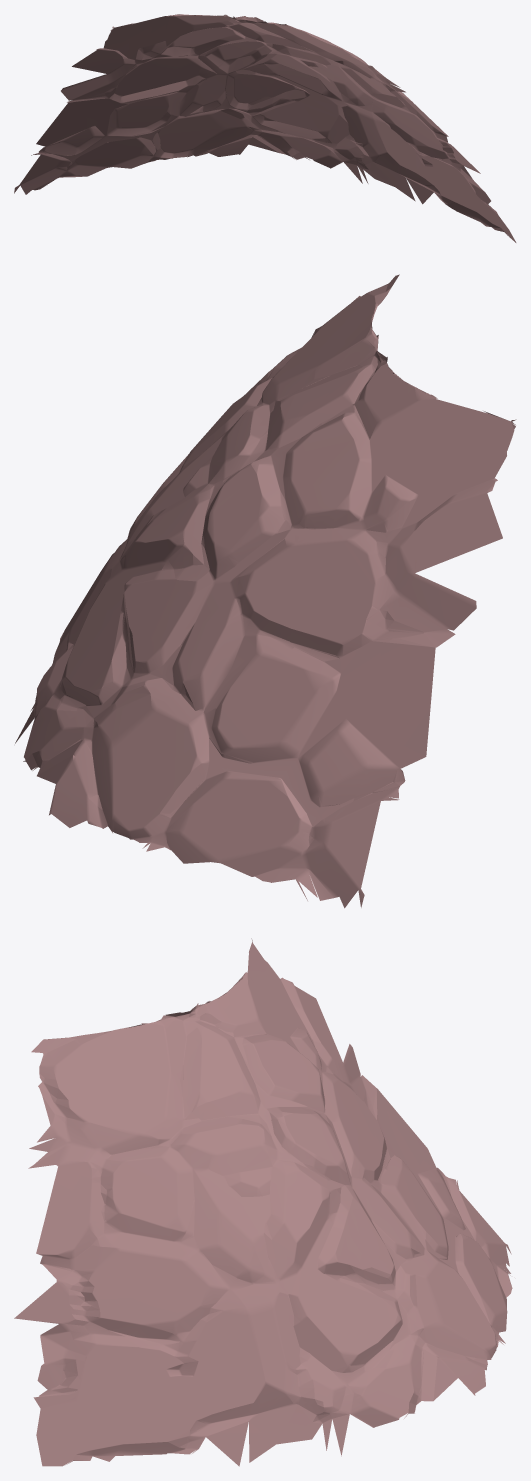
The model's file is plateau.fbx_Rock_Plateau_020LODs.fbx.
3 renders of one model, top to bottom at view 1: azimuth 30°, elevation 25°; view 2: azimuth 150°, elevation 25°; view 3: azimuth 270°, elevation 25°, orthographic. The views are drawn at different scales.
Parts seen in each view (by area): view 1: Rock Plateau.020_LOD0; view 2: Rock Plateau.020_LOD0; view 3: Rock Plateau.020_LOD0.
Part boxes in pixels (x1,y1,x2,y2): Rock Plateau.020_LOD0: (14, 14, 516, 242); Rock Plateau.020_LOD0: (15, 274, 516, 908); Rock Plateau.020_LOD0: (14, 938, 512, 1466).
Size of what is drawn, in the model's own units: 4504 by 3168 by 4306.
